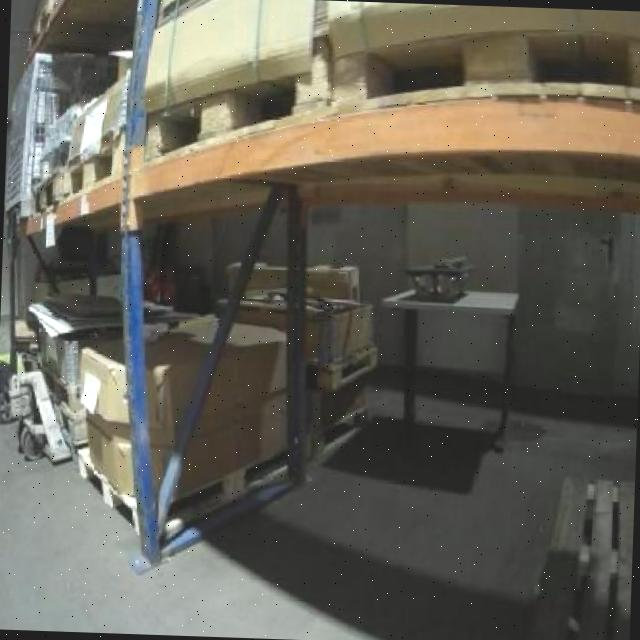pallet: (316, 10, 640, 127), (134, 30, 343, 176), (70, 434, 299, 540), (514, 465, 632, 640), (49, 124, 132, 208)
